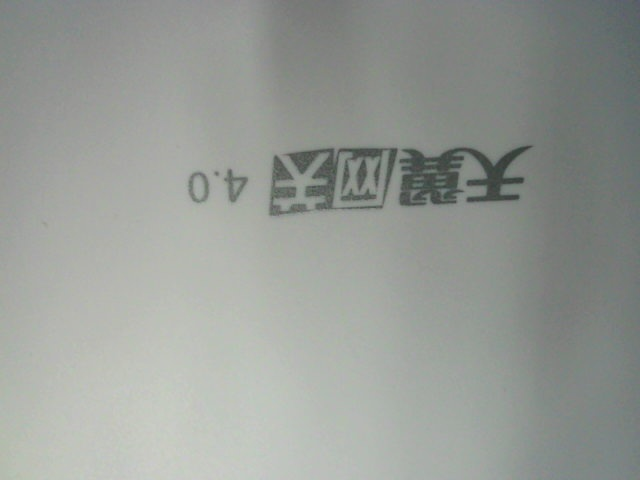BM_TianYiWangGuan: (179, 124, 541, 219)
